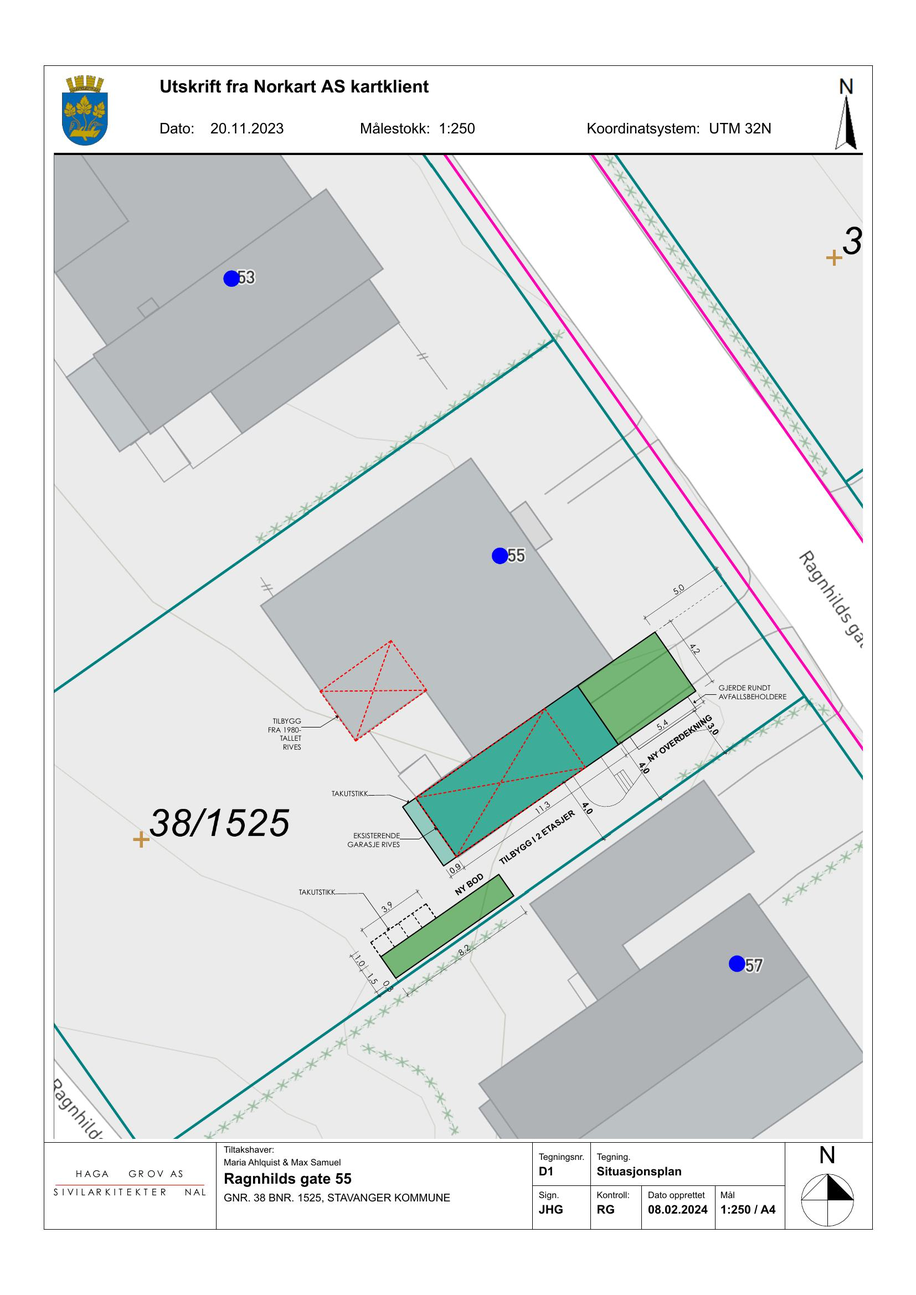situasjonskart: (53, 156, 873, 1146)
